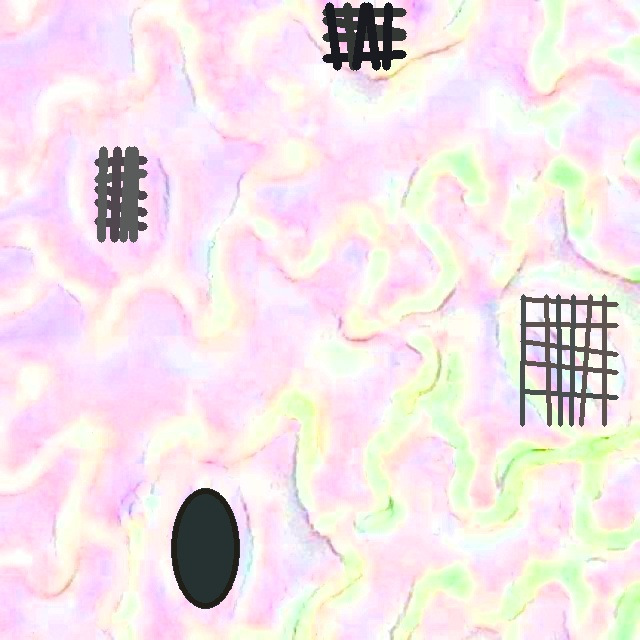open: (520, 295, 617, 425), (171, 487, 239, 608), (323, 2, 405, 70), (94, 146, 147, 242)
